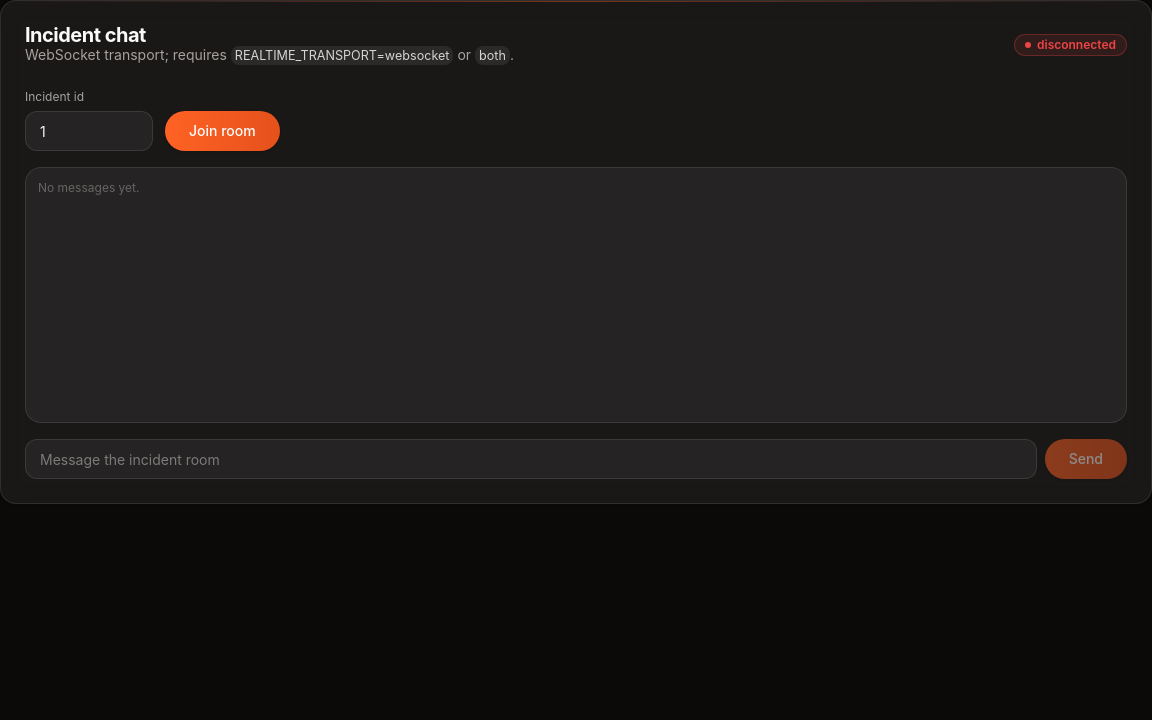
ChatPage › shows a generic message for a non-api join failure
Click the button "Join room". click: (222,131)
box: [165,111,280,151]
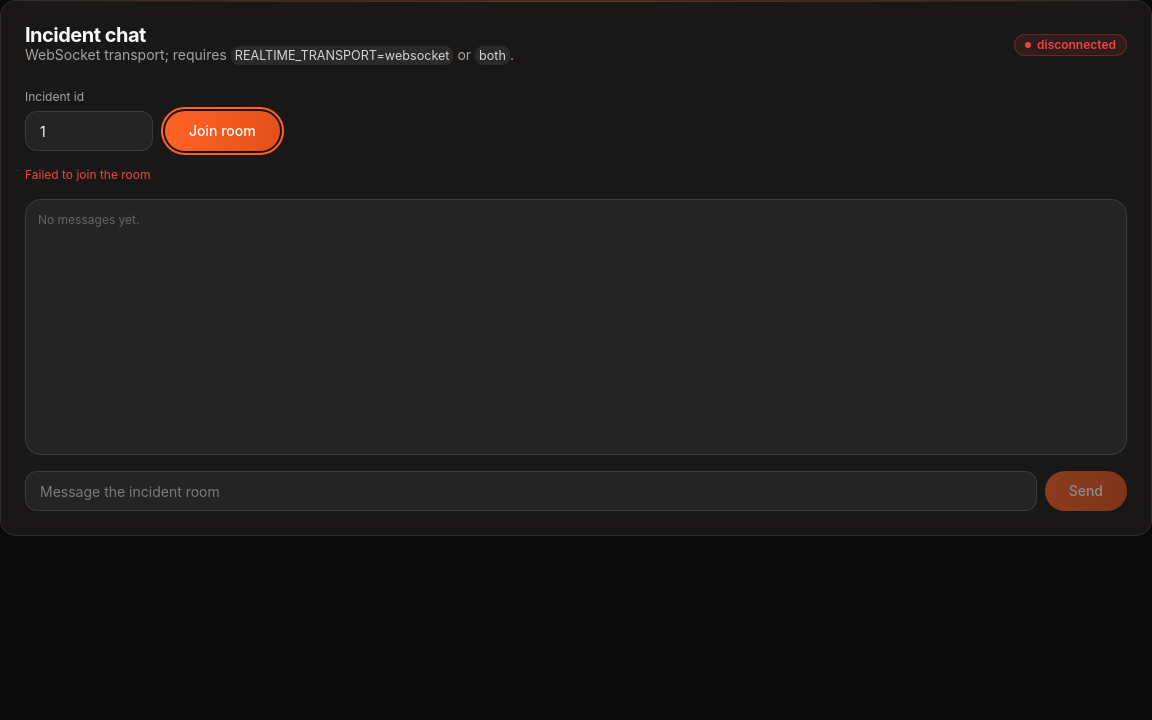
Expected: the text "Failed to join the room" is shown, [25,167,150,182]
